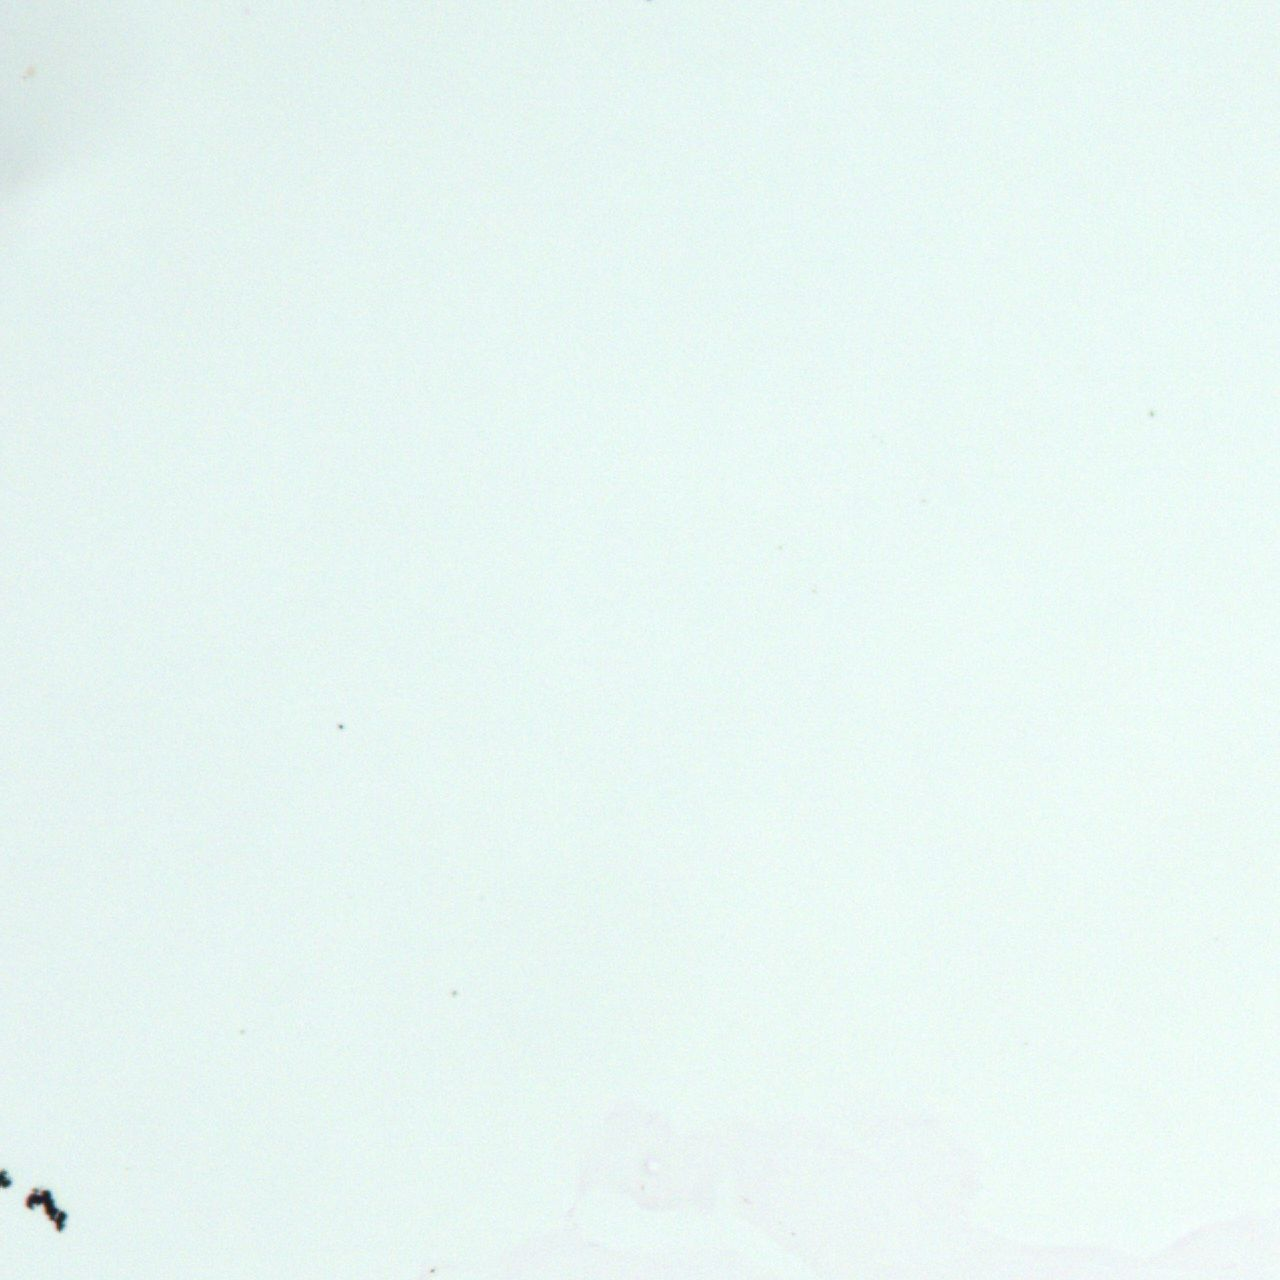dust: (20, 1180, 75, 1238), (0, 1167, 12, 1189), (338, 724, 343, 728), (452, 990, 456, 996)
